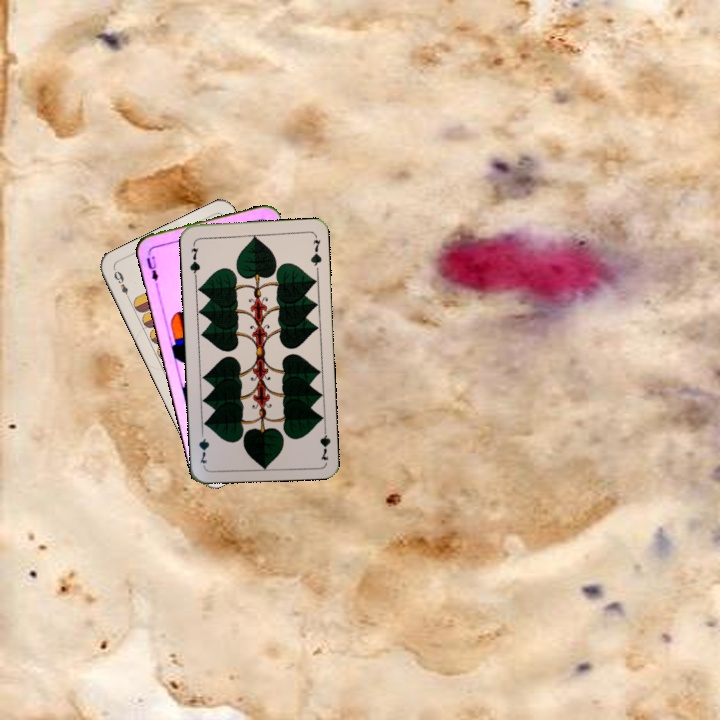E9: (110, 267, 133, 304)
EU: (142, 248, 161, 288)
G7: (186, 239, 203, 279), (316, 422, 333, 462)
